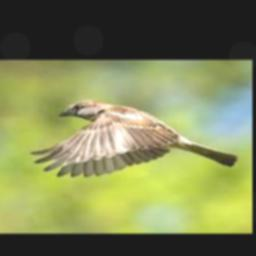Sparrow: (30, 100, 238, 177)
